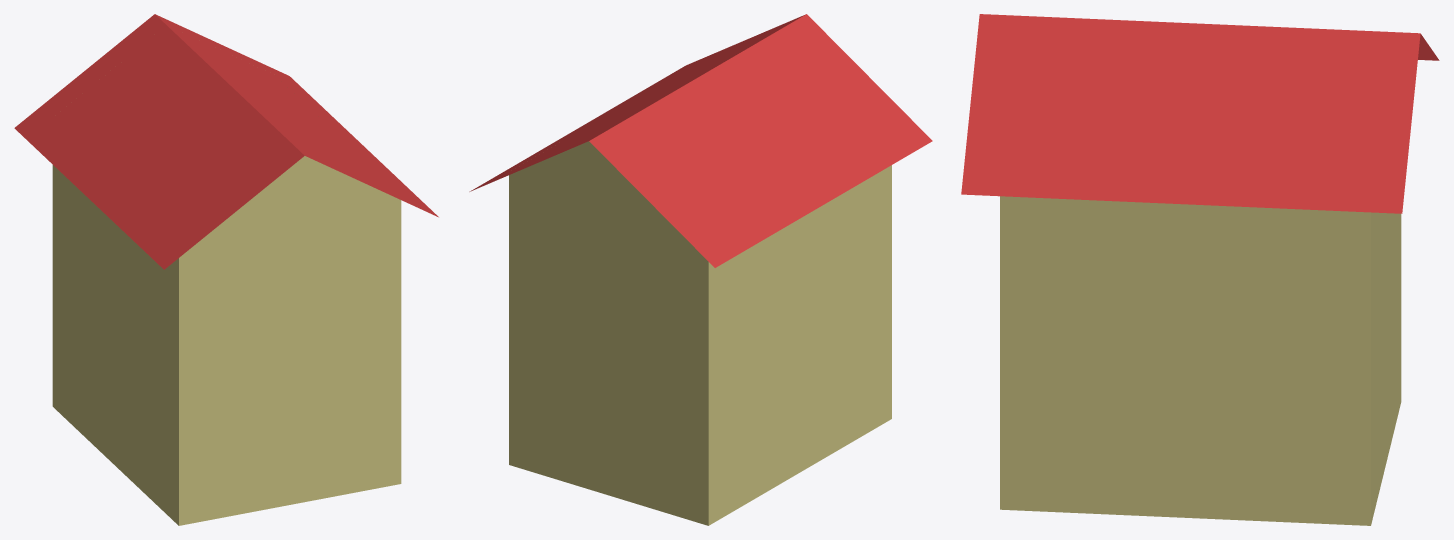
3 views of the same model, side by side, from view 1: azimuth 30°, elevation 25°; view 2: azimuth 150°, elevation 25°; view 3: azimuth 270°, elevation 25° (orthographic). The views are drawn at different scales.
Bounding box in the file's own units: 5.8 × 6.81 × 6.82.
